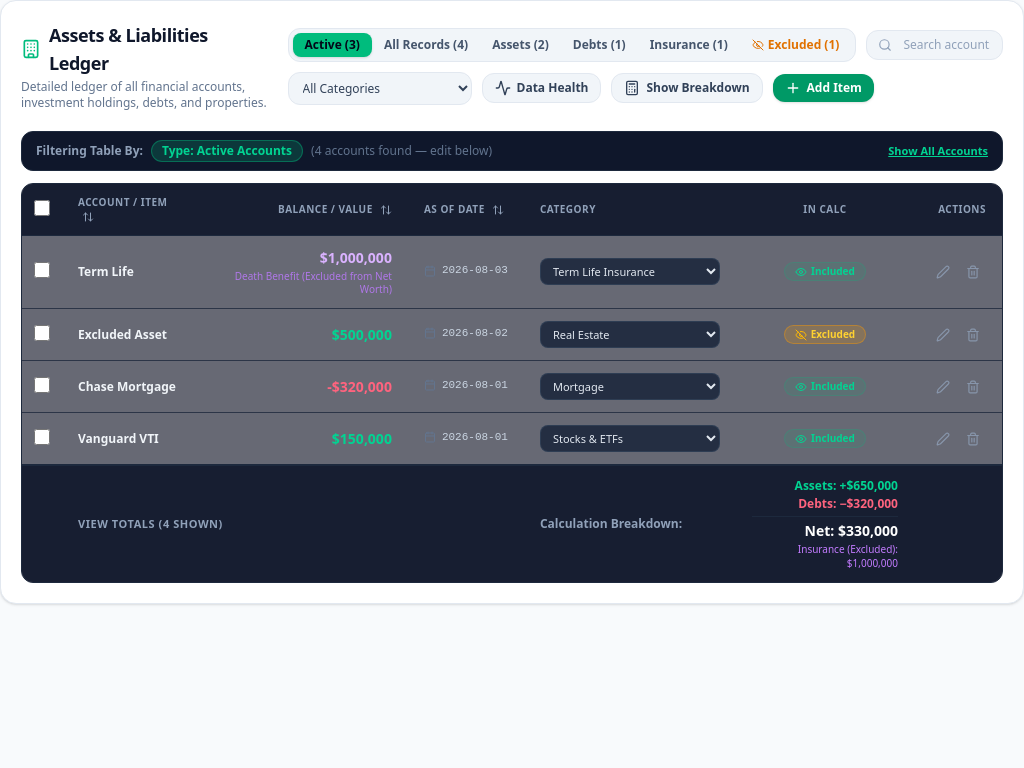
Test: AssetsLiabilitiesLedger › allows switching between tabs (All, Assets, Liabilities)
// Switch to Assets tab
Click the button "Assets (2)".
click(520, 44)  # box [480,32,561,56]
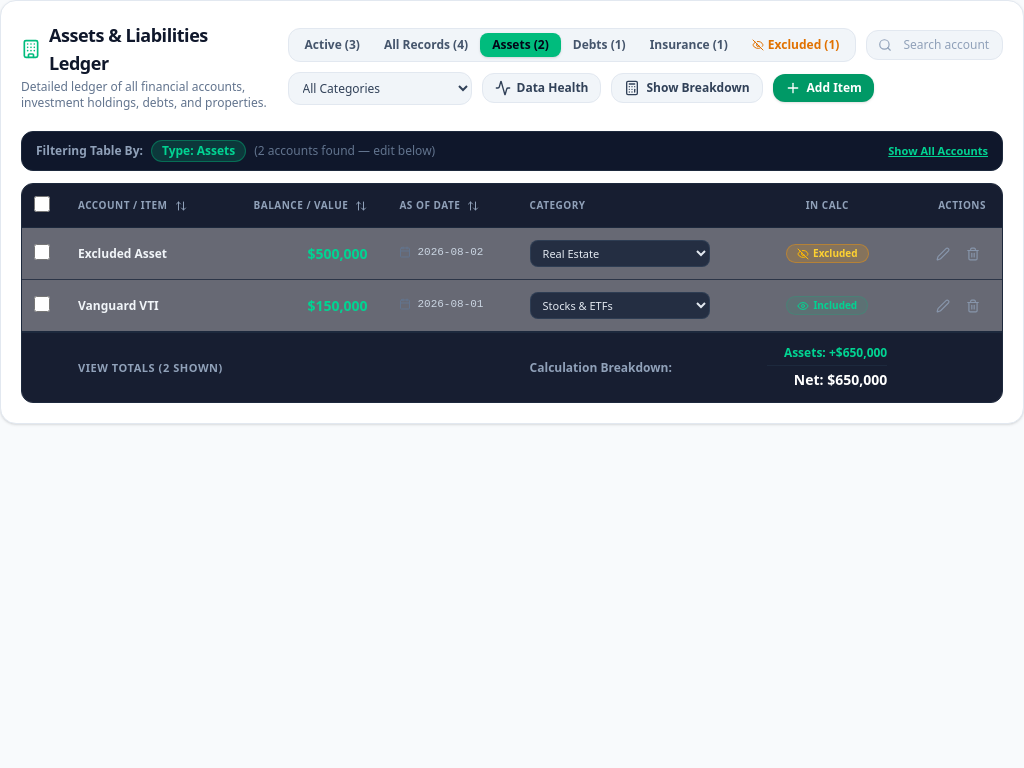
Expected: the text "Vanguard VTI" is shown, [78,298,159,314]
Expected: the text "Chase Mortgage" is gone
// Switch to Liabilities tab
Click the button "Debts (1)".
click(599, 44)  # box [561,32,638,56]
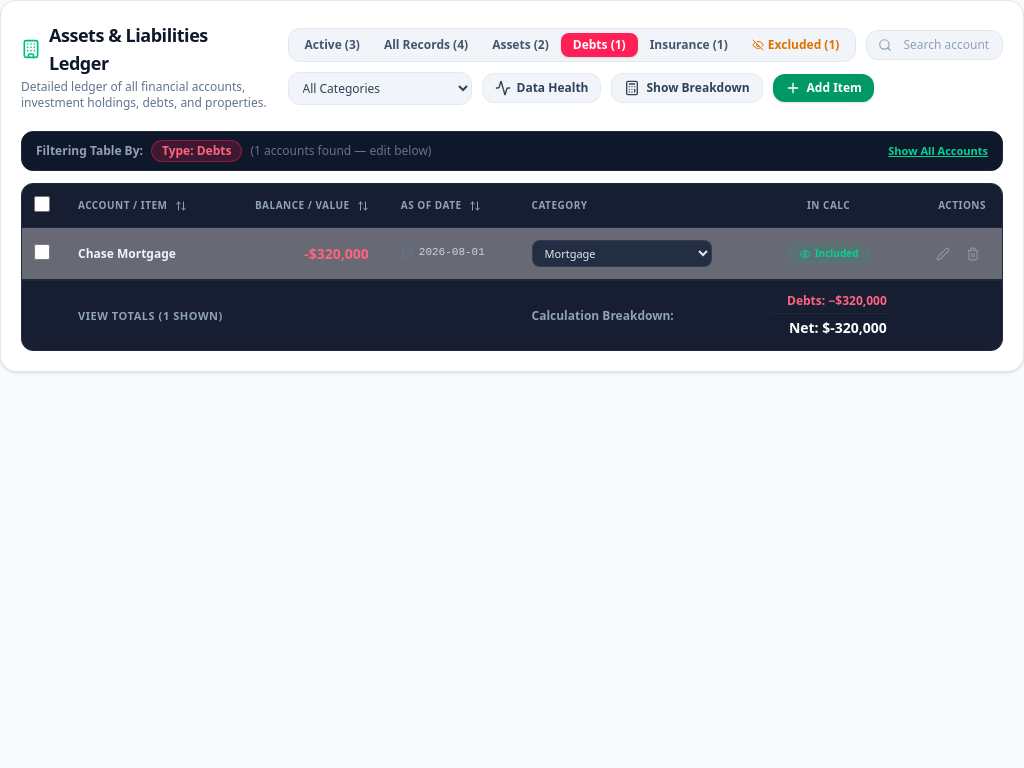
Expected: the text "Vanguard VTI" is gone
Expected: the text "Chase Mortgage" is shown, [78,246,176,262]
